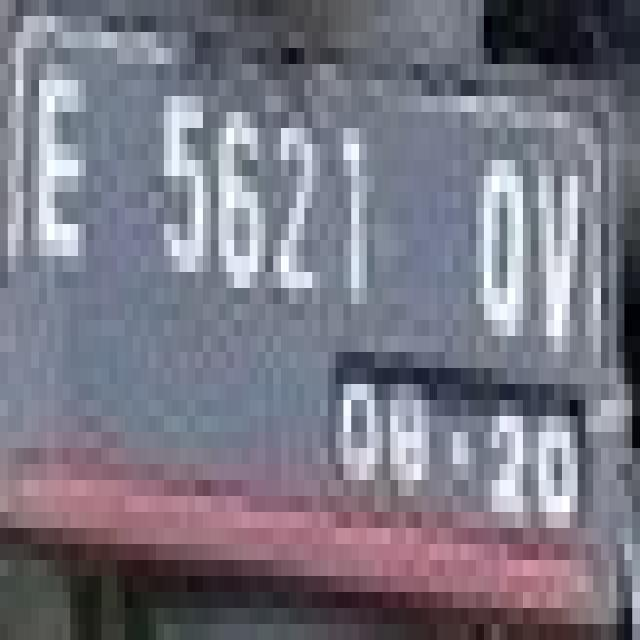plate: (1, 0, 634, 608)
